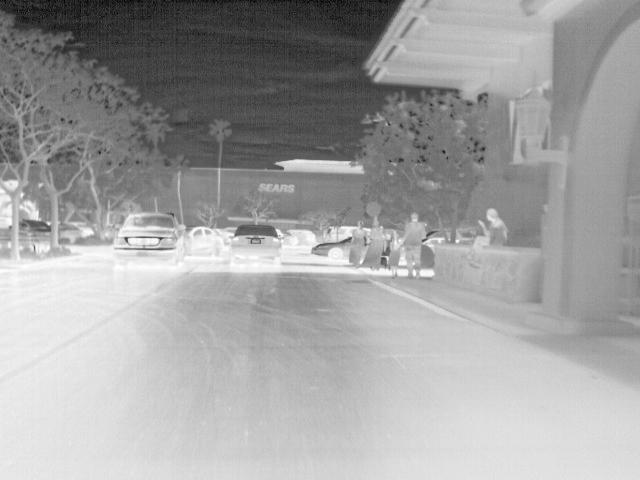car: (113, 212, 188, 267), (232, 223, 280, 264), (188, 224, 224, 258), (310, 235, 351, 262), (19, 219, 50, 243), (422, 229, 450, 250), (58, 223, 84, 243), (281, 228, 296, 246), (294, 230, 312, 244), (219, 227, 236, 240), (0, 225, 10, 245), (339, 226, 353, 240)
person: (462, 206, 507, 270), (404, 212, 424, 279), (367, 219, 383, 269), (351, 220, 367, 268), (388, 230, 400, 279)
